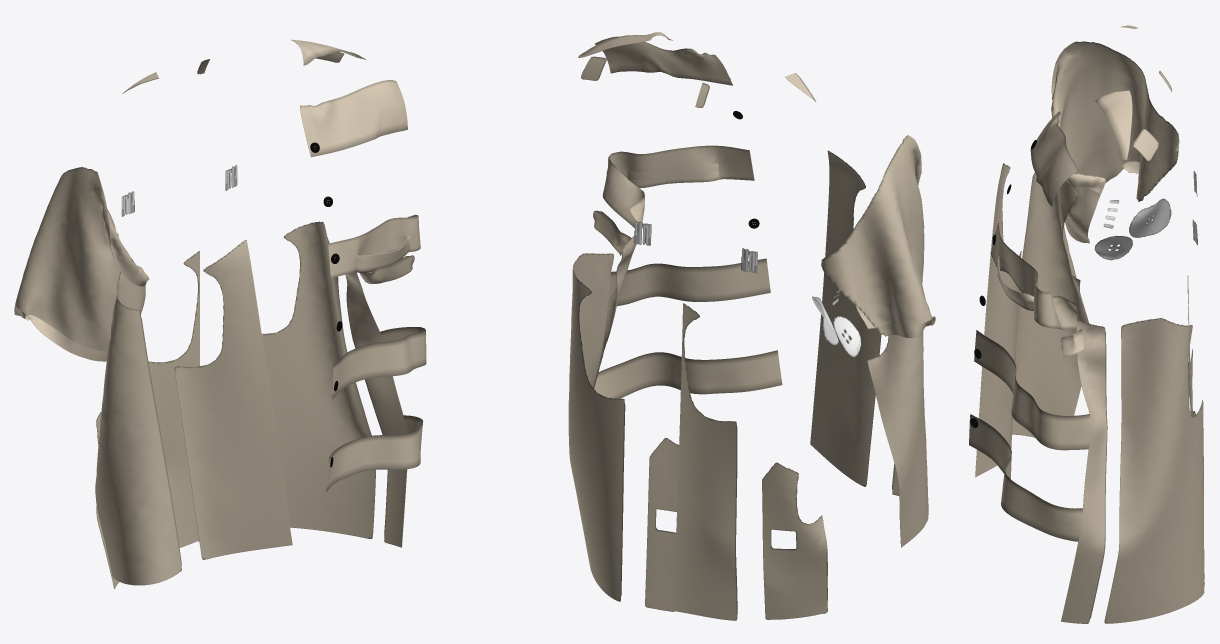
Rendered from FLG_000005.fbx.
3 renders of one model, left to right at view 1: azimuth 30°, elevation 25°; view 2: azimuth 150°, elevation 25°; view 3: azimuth 270°, elevation 25°, orthographic. The views are drawn at different scales.
Parts seen in each view (by area): view 1: FLG_000005; view 2: FLG_000005; view 3: FLG_000005.
Boxes of the visible parts, <box> form: FLG_000005: <box>14,39,426,588</box>; FLG_000005: <box>568,32,935,620</box>; FLG_000005: <box>969,25,1204,623</box>.
Bounding box in the file's own units: 61.69 × 75.55 × 30.39.
